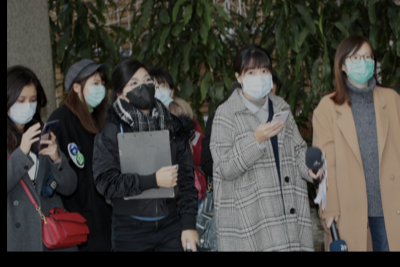with_mask: (241, 63, 273, 100), (126, 72, 156, 110), (345, 50, 375, 83), (9, 92, 38, 125), (84, 76, 107, 108), (153, 82, 173, 106)
